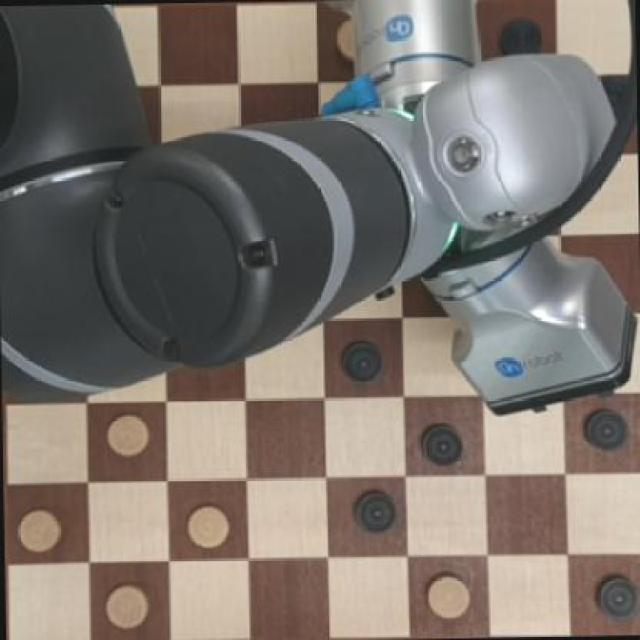black: (578, 404, 636, 458), (347, 482, 402, 537), (336, 334, 389, 386), (587, 570, 640, 621), (418, 417, 468, 465)
white: (423, 568, 476, 626), (177, 500, 234, 550), (104, 410, 154, 464), (12, 505, 62, 557), (104, 580, 154, 631)
